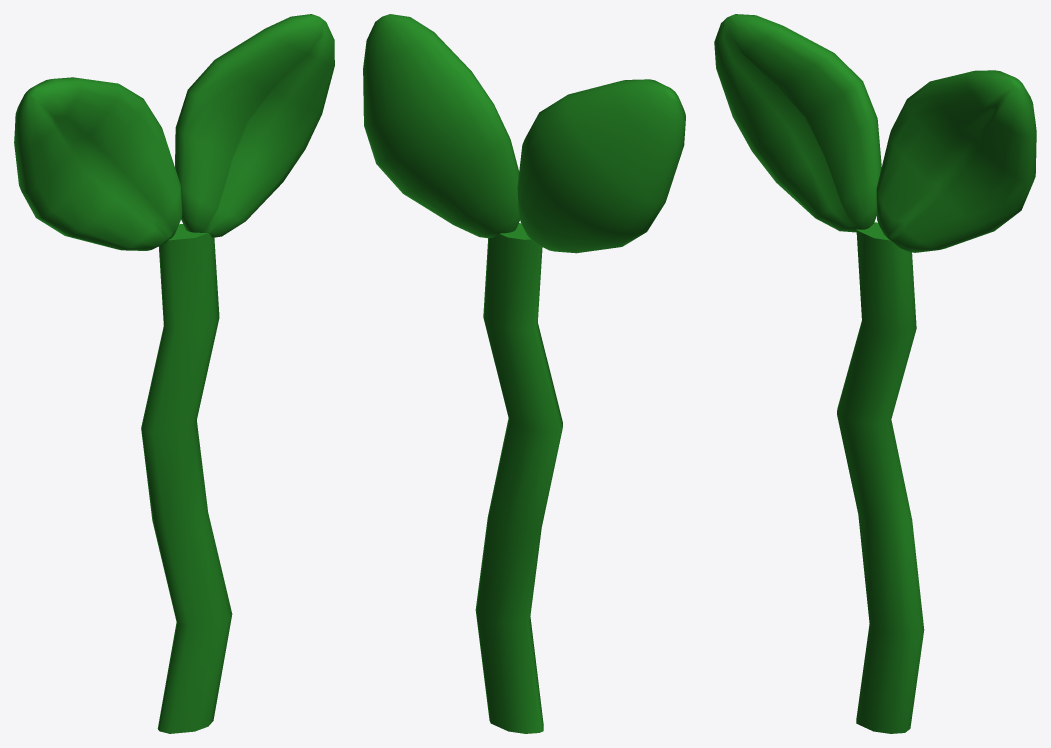
File: SproutV1.obj
The picture shows the model from 3 angles, left to right: view 1: azimuth 30°, elevation 25°; view 2: azimuth 150°, elevation 25°; view 3: azimuth 330°, elevation 25°; orthographic projection.
Visible parts, largest first — view 1: pCylinder2; view 2: pCylinder2; view 3: pCylinder2.
Boxes of the visible parts, x1,y1,x2,y2 form: pCylinder2: (14,14,334,733); pCylinder2: (363,14,685,733); pCylinder2: (714,14,1036,733).
Size of the model in its own units: 0.2904 by 0.5955 by 0.0637.
